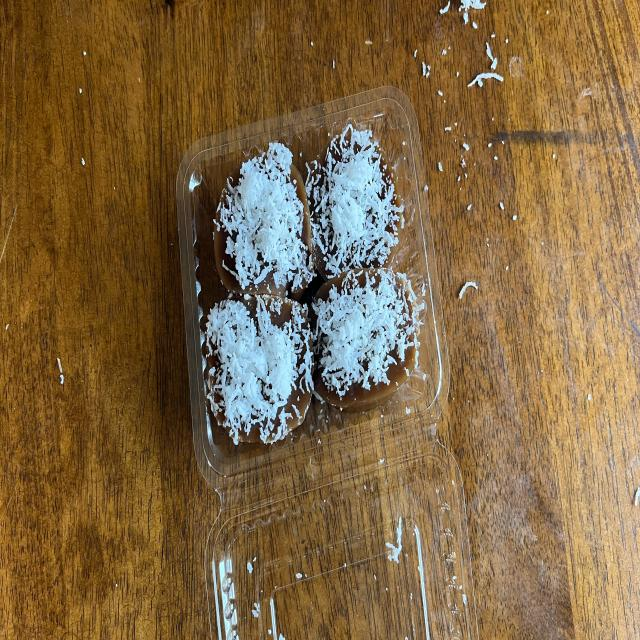Kuih lompang: (205, 293, 314, 444), (215, 142, 314, 300), (312, 269, 418, 411), (306, 124, 400, 278)
